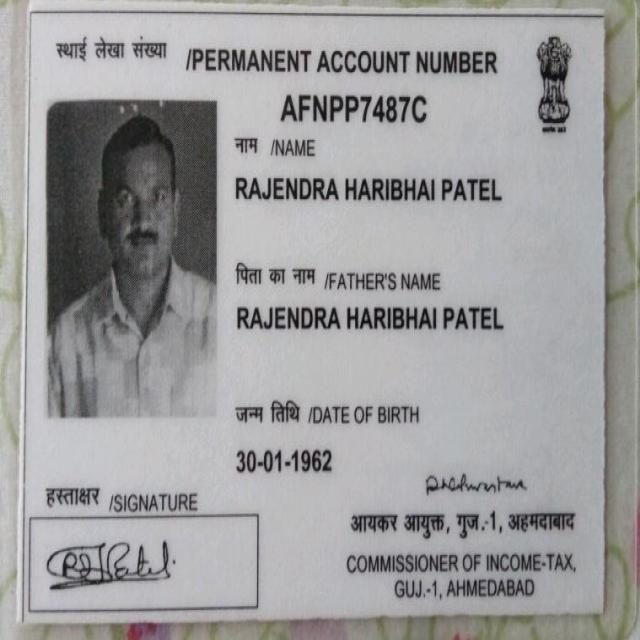pan_card: (17, 12, 605, 624)
